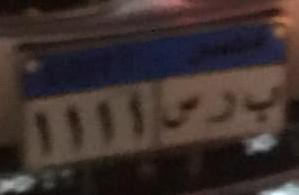1: (90, 87, 119, 156), (61, 92, 86, 152), (126, 89, 147, 146), (34, 110, 51, 159)
ب: (236, 70, 281, 124)
ر: (203, 85, 237, 132)
س: (160, 87, 205, 137)
